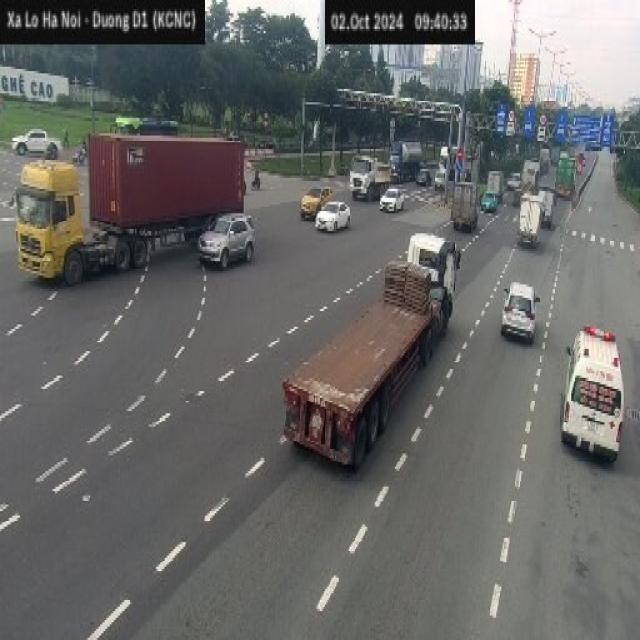car: (196, 211, 255, 269), (500, 280, 540, 342), (300, 184, 334, 218), (314, 200, 350, 231), (378, 187, 404, 211), (480, 189, 498, 211)
container-truck: (281, 233, 459, 471), (14, 131, 246, 285)
